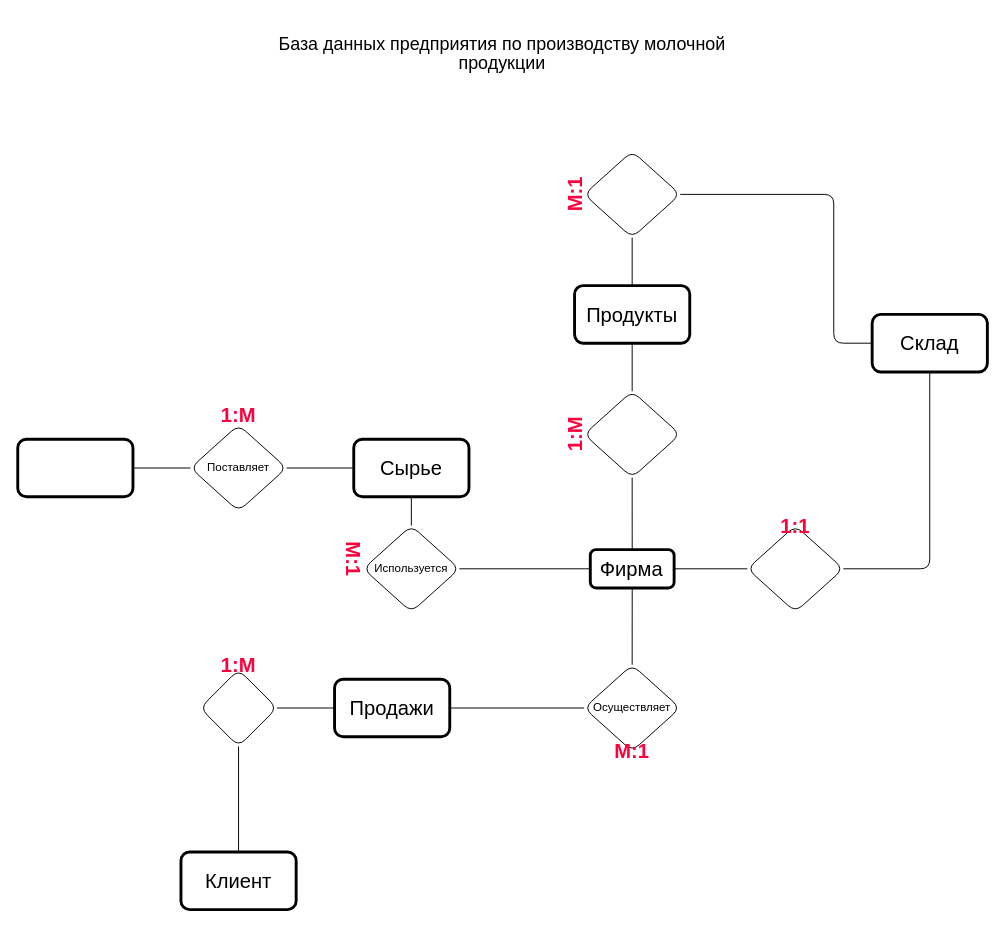
Some shapes in this 1005 by 927 pixel diagram are drawn without their labels. Each missing label, with the box of its shape:
Опустошает: (746, 525, 843, 612)
Поставщик: (16, 437, 134, 498)
Производят: (583, 390, 680, 478)
Совершает: (199, 669, 277, 746)
Хранятся: (583, 150, 680, 238)
